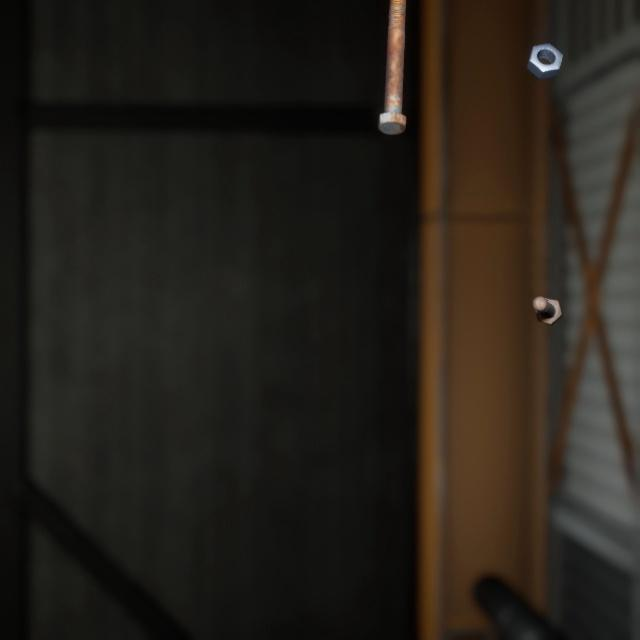bolt: (373, 0, 410, 130), (527, 273, 566, 312)
nut: (522, 29, 567, 73)
